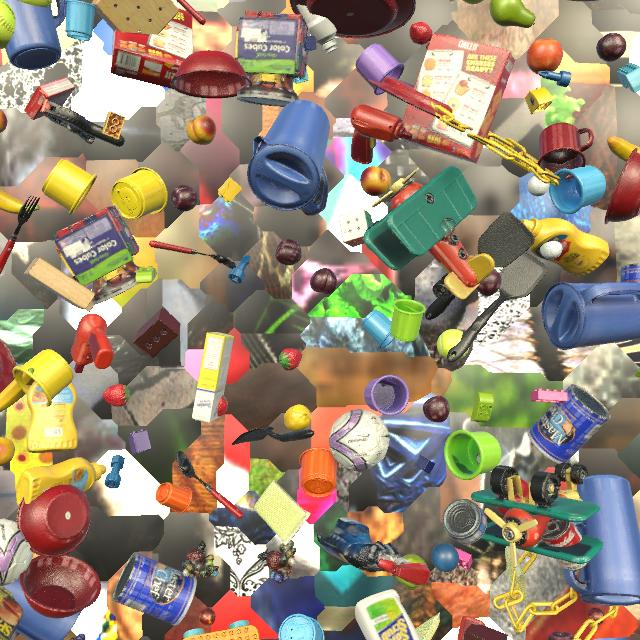ycb_002_master_chef_can: (527, 384, 611, 464), (112, 552, 197, 626), (620, 263, 640, 283)
ycb_003_cracker_box: (400, 33, 515, 163), (111, 8, 194, 89)
ycb_004_sugar_box: (192, 332, 234, 423)
ycb_005_tomato_soup_can: (541, 518, 589, 571)
ycb_006_mustard_bottle: (521, 218, 609, 277), (16, 457, 107, 506), (26, 381, 78, 453)
ycb_007_tuna_fish_can: (442, 499, 487, 545)
ycb_009_gelatin_box: (24, 77, 76, 120)
ycb_010_potted_meat_can: (0, 586, 24, 640)
ycb_011_banana: (0, 368, 35, 412), (0, 189, 40, 214), (607, 136, 640, 162)
ycb_012_strawberry: (103, 384, 130, 407), (279, 348, 302, 371), (409, 22, 432, 45), (217, 395, 228, 417)
ycb_013_apple: (495, 479, 529, 516)
ycb_014_lemon: (284, 405, 312, 431)
ycb_015_peach: (360, 166, 391, 196), (186, 115, 216, 145), (0, 437, 15, 466), (0, 109, 7, 133)
ycb_016_pear: (489, 0, 535, 28), (396, 554, 427, 590)
ycb_017_orange: (526, 38, 563, 74)
ycb_018_plum: (596, 33, 627, 62), (423, 396, 450, 423), (310, 268, 337, 295), (171, 185, 198, 212), (275, 239, 302, 266), (476, 270, 501, 296), (548, 631, 574, 640)
